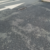others: (1, 1, 25, 11)
